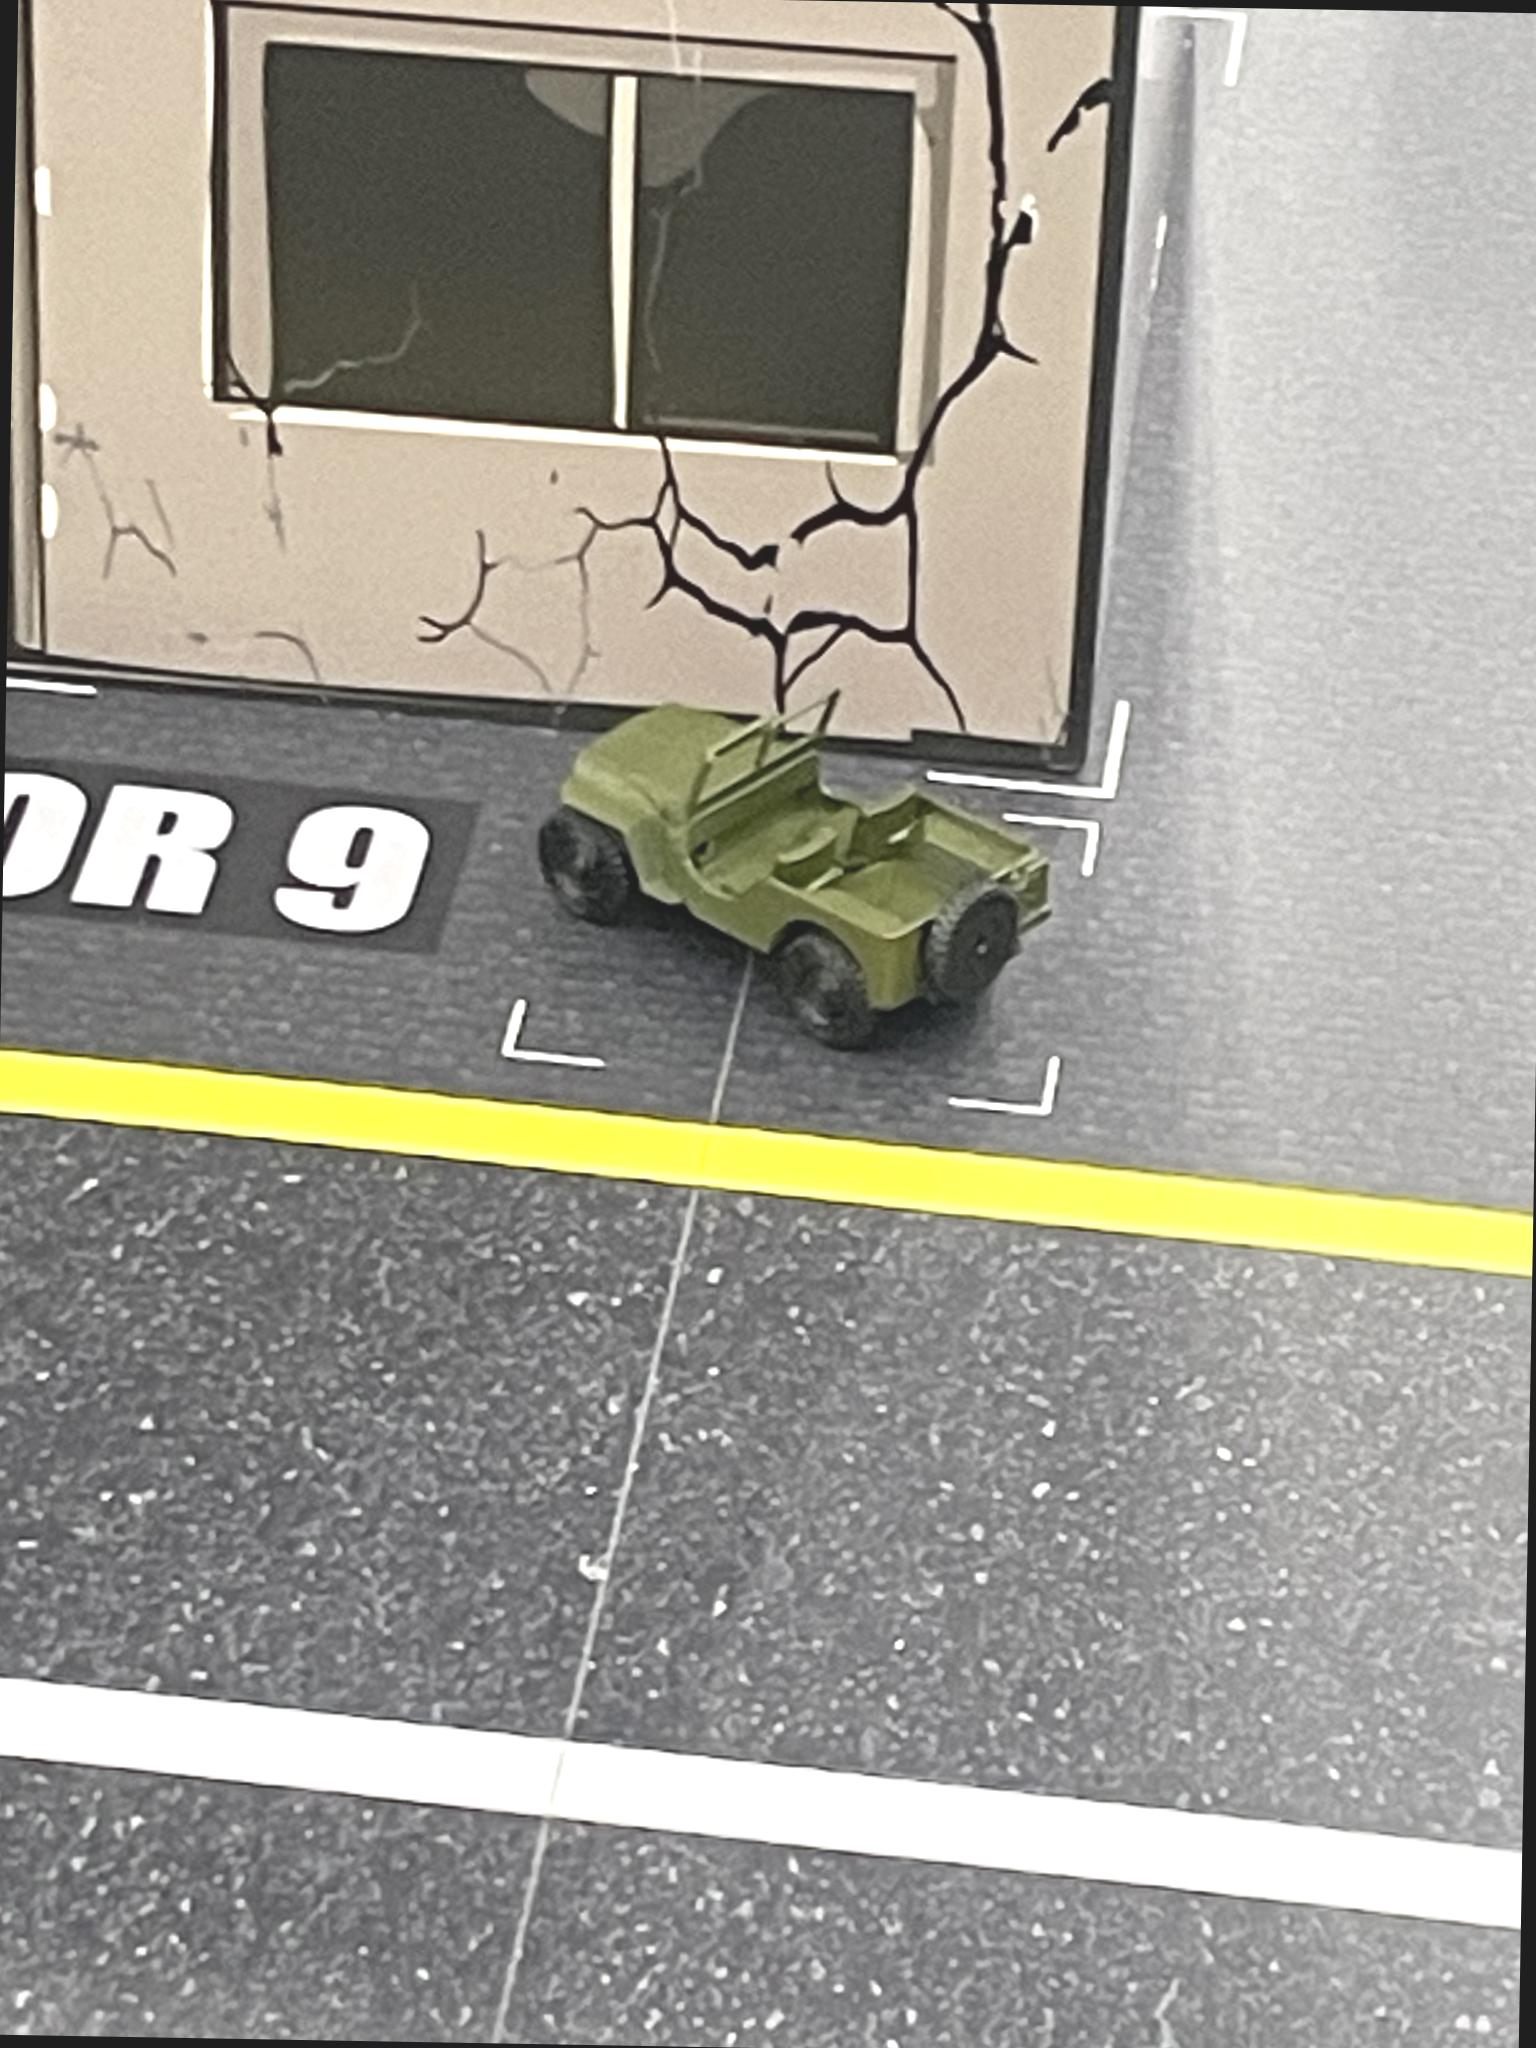Car: (518, 666, 1070, 1072)
